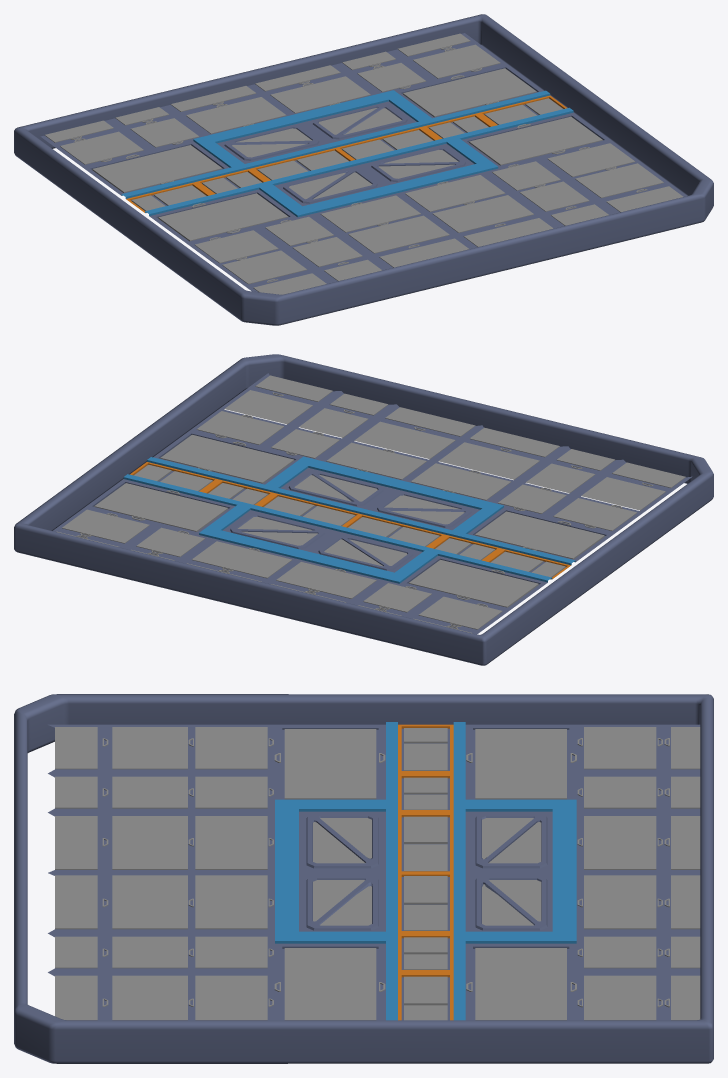
The model's file is Ground.fbx.
3 renders of one model, top to bottom at view 1: azimuth 30°, elevation 25°; view 2: azimuth 150°, elevation 25°; view 3: azimuth 270°, elevation 25°, orthographic. The views are drawn at different scales.
Parts seen in each view (by area): view 1: Ground; view 2: Ground; view 3: Ground.
Boxes of the visible parts, left/top/right/bottom form: Ground: left=14, top=14, right=713, bottom=325; Ground: left=14, top=354, right=713, bottom=665; Ground: left=14, top=694, right=713, bottom=1063.
Size of the model in its own units: 6411 by 366 by 5696.
